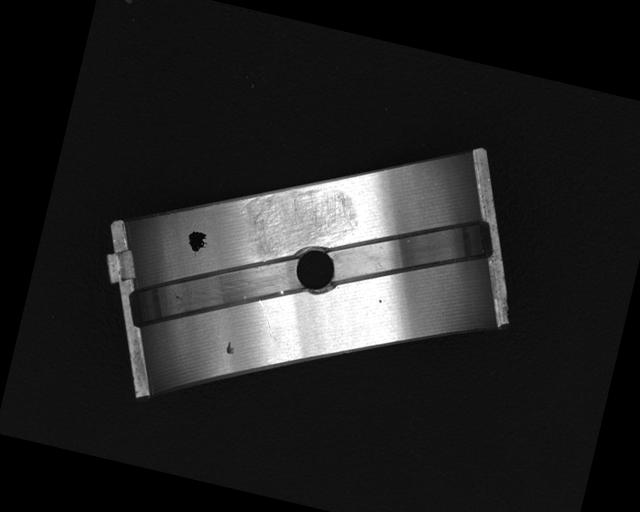blot: (185, 229, 209, 254)
bruise: (222, 339, 237, 357), (377, 298, 383, 304)
gap: (121, 220, 308, 361), (324, 186, 502, 317)
hole: (284, 240, 345, 301)
nick: (250, 300, 283, 340)
scratch: (232, 169, 366, 275)
